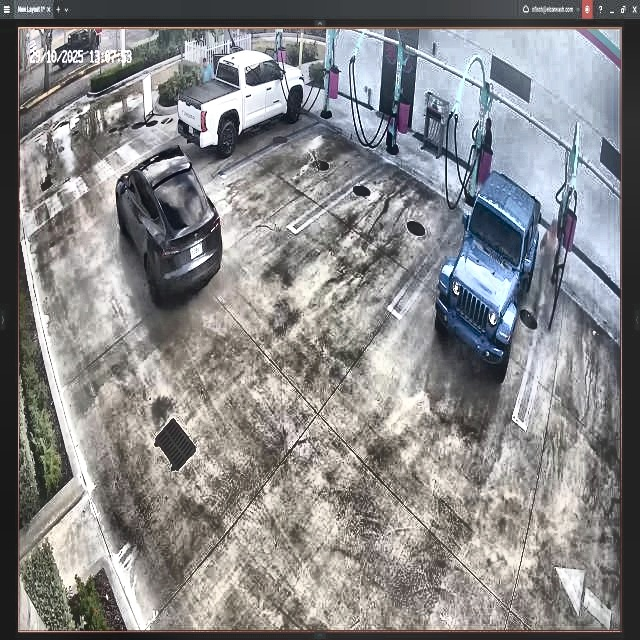Car: (437, 172, 542, 372), (115, 150, 223, 304), (181, 45, 304, 156)
